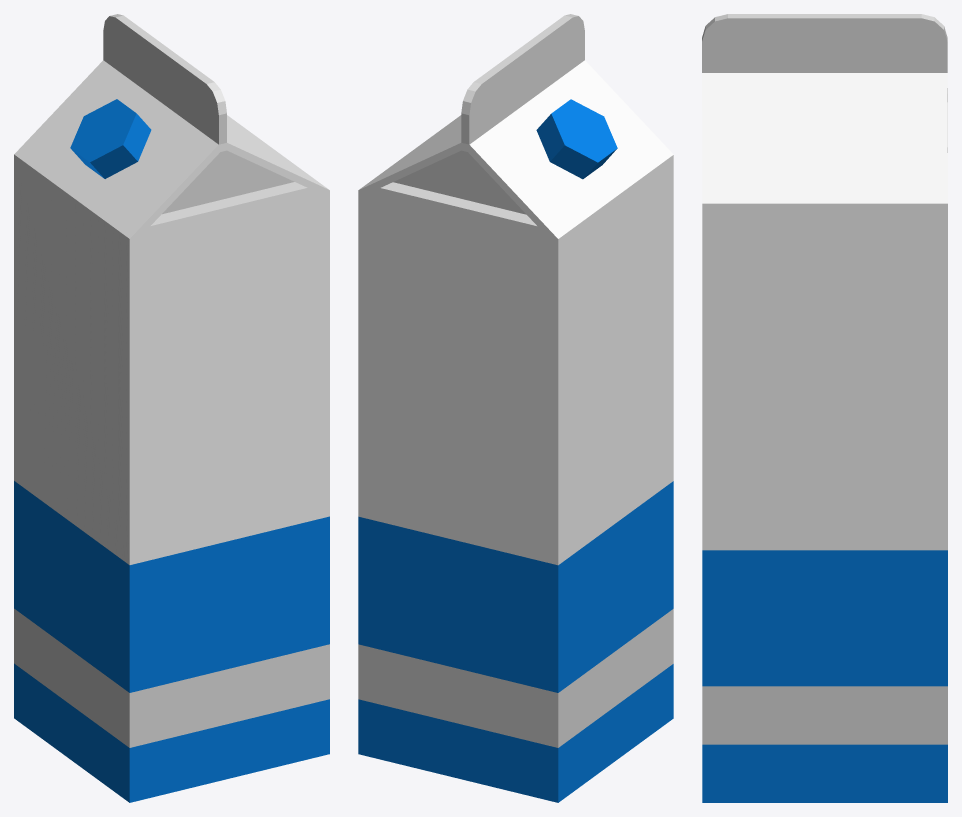
Rendered from Milk.fbx.
The picture shows the model from 3 angles, left to right: view 1: azimuth 30°, elevation 25°; view 2: azimuth 150°, elevation 25°; view 3: azimuth 270°, elevation 25°; orthographic projection. The views are drawn at different scales.
Visible parts, largest first — view 1: Juice; view 2: Juice; view 3: Juice.
Boxes of the visible parts, x1,y1,x2,y2 form: Juice: (14, 14, 329, 802); Juice: (358, 14, 673, 802); Juice: (702, 14, 947, 802).
Bounding box in the file's own units: 19.45 × 63.84 × 19.43.
